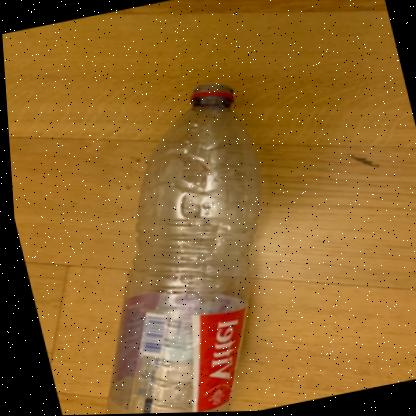Plastic: (99, 85, 256, 415)
